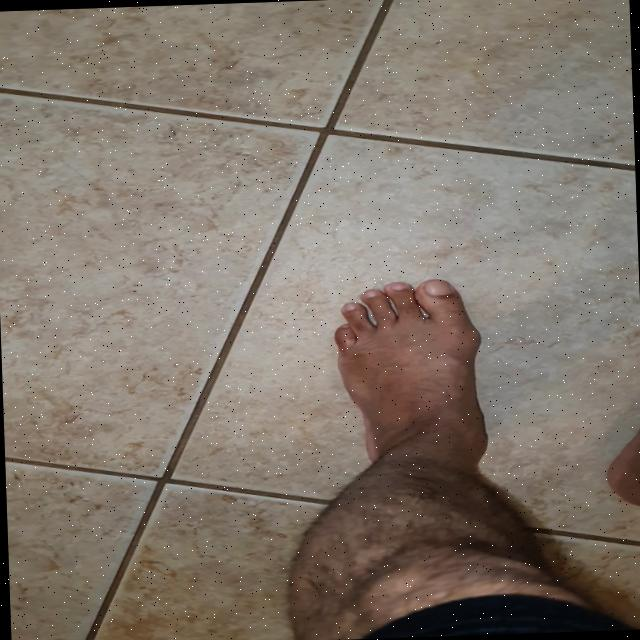no-boots: (315, 274, 505, 483)
